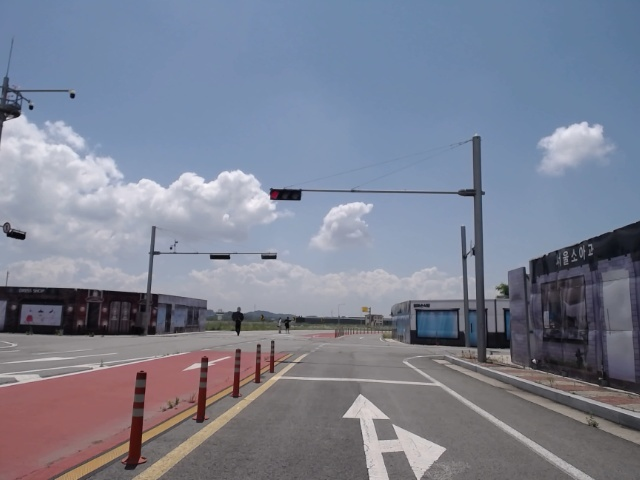red_3: (269, 189, 305, 201)
